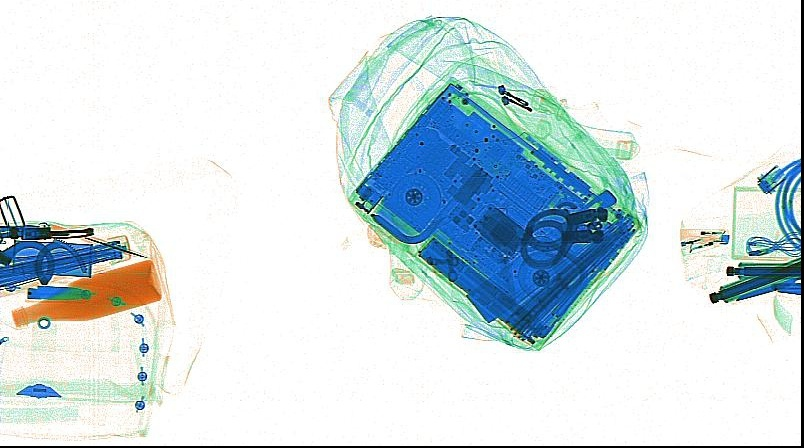handcuffs: (1, 224, 93, 288), (519, 204, 608, 269)
knife: (463, 188, 616, 323), (43, 223, 148, 259), (25, 285, 92, 301)
lighter: (680, 231, 732, 256), (677, 226, 724, 246)
zippooil: (8, 237, 93, 278)
